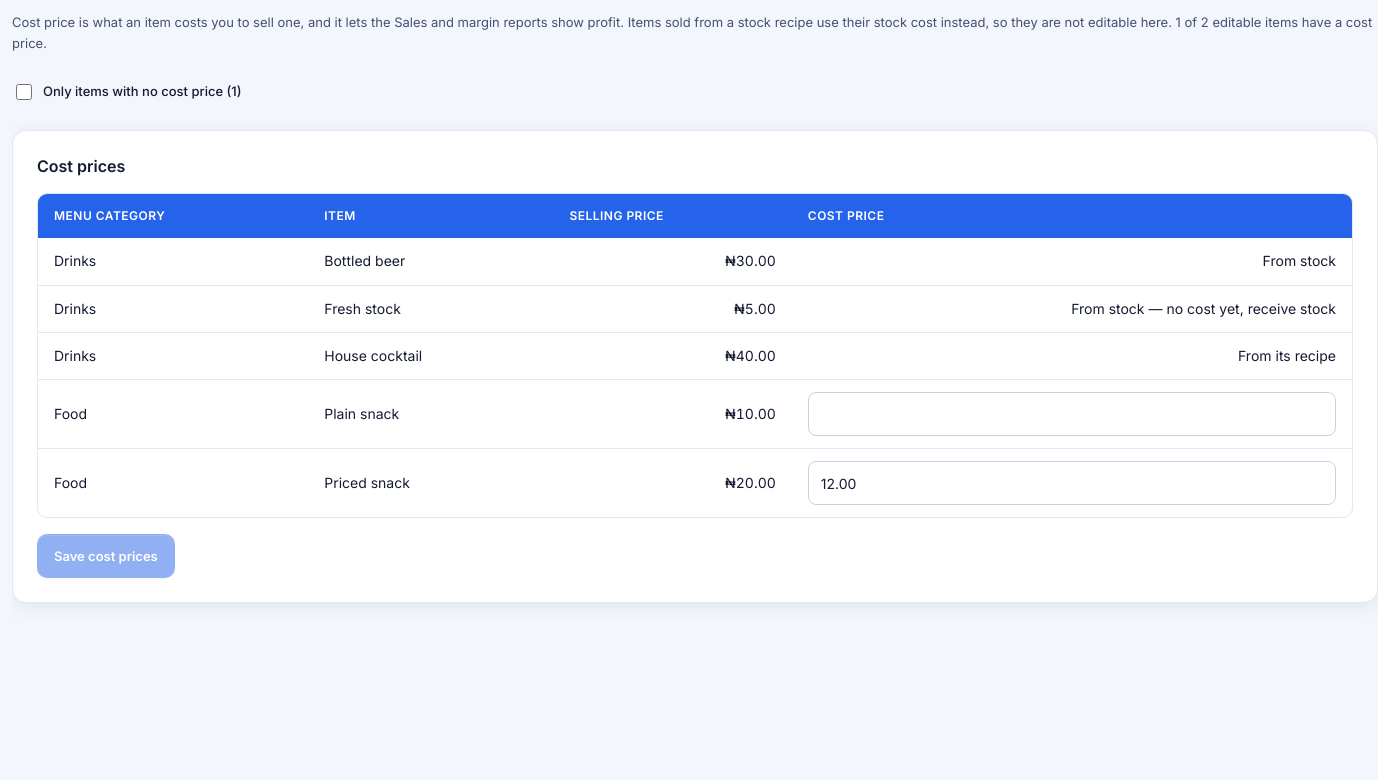
Test: <CostPricesCard> › saves only the rows that changed, as exact strings, then reloads the list
The width and height of the screenshot is (1378, 780).
In the field named "Cost price for Plain snack": (1072, 414) 808,392 -> 1336,436, type "6.5"
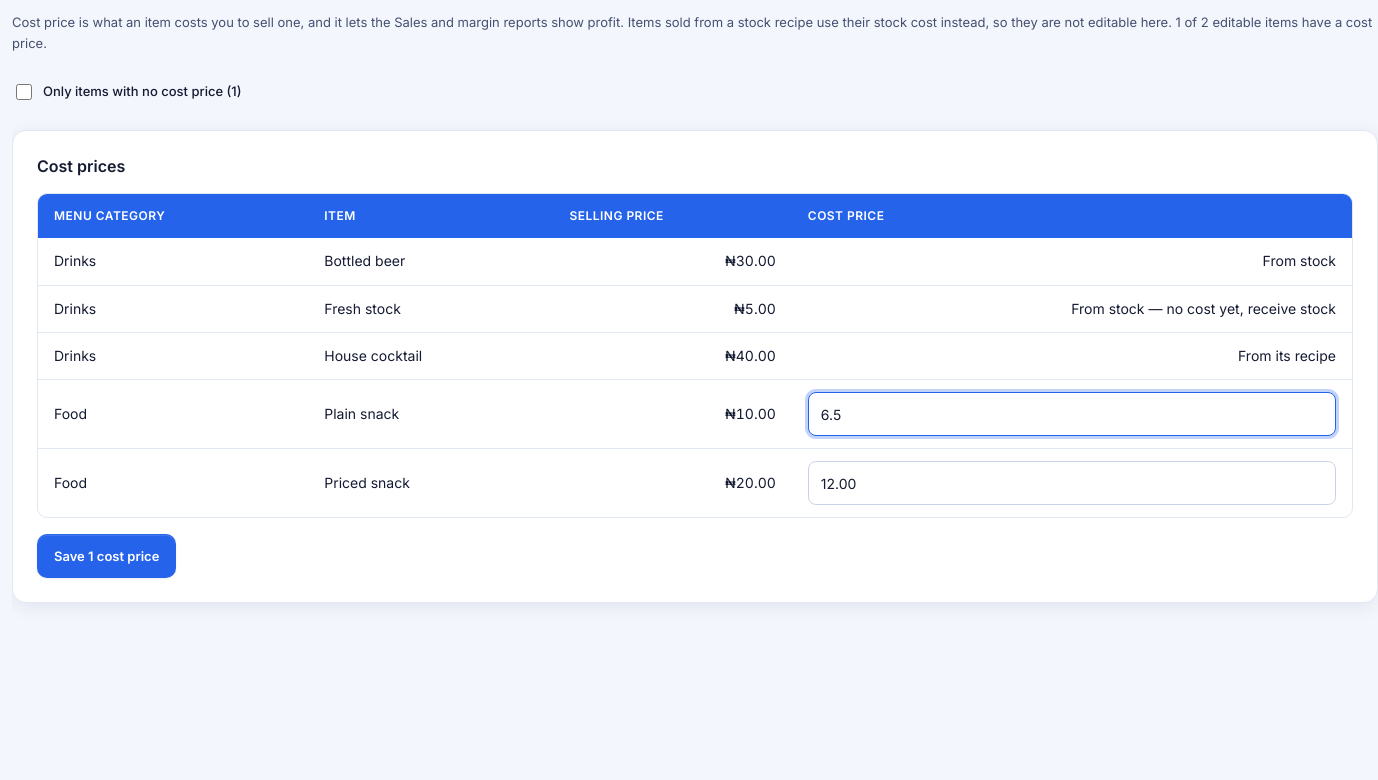
Click the button "Save 1 cost price": (107, 556) 37,534 -> 176,578
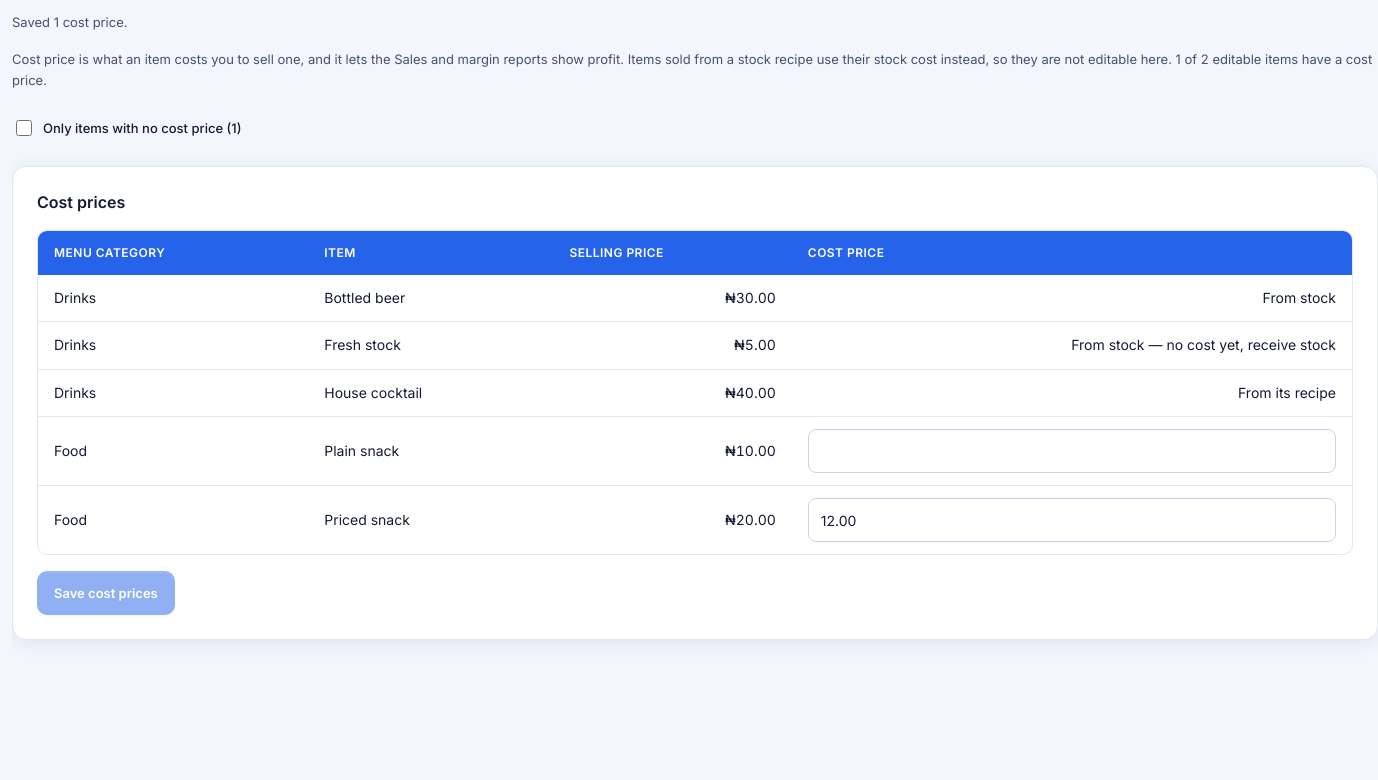
Now the text "Saved 1 cost price." is shown, box 12,14 -> 128,30
